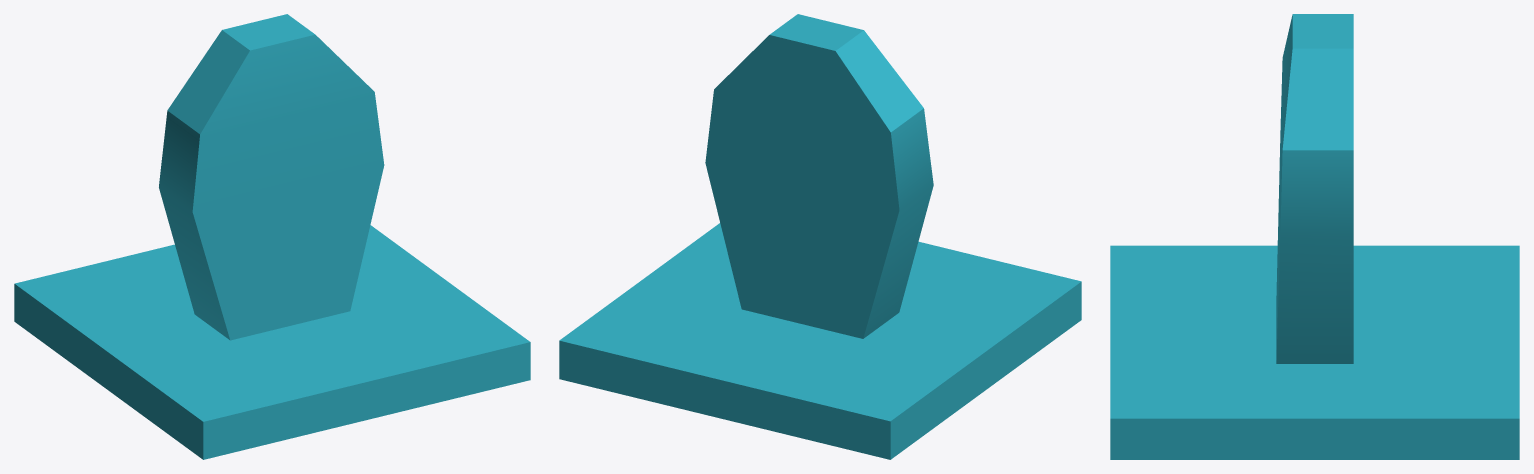
File: SM_Tower_Slow.fbx
3 renders of one model, left to right at view 1: azimuth 30°, elevation 25°; view 2: azimuth 150°, elevation 25°; view 3: azimuth 270°, elevation 25°, orthographic. The views are drawn at different scales.
Parts seen in each view (by area): view 1: SM_Tower_Slow; view 2: SM_Tower_Slow; view 3: SM_Tower_Slow.
Part boxes in pixels (x1,y1,x2,y2): SM_Tower_Slow: (14,14,530,459); SM_Tower_Slow: (559,14,1081,459); SM_Tower_Slow: (1110,14,1519,459).
Bounding box in the file's own units: 146 × 134 × 146.
